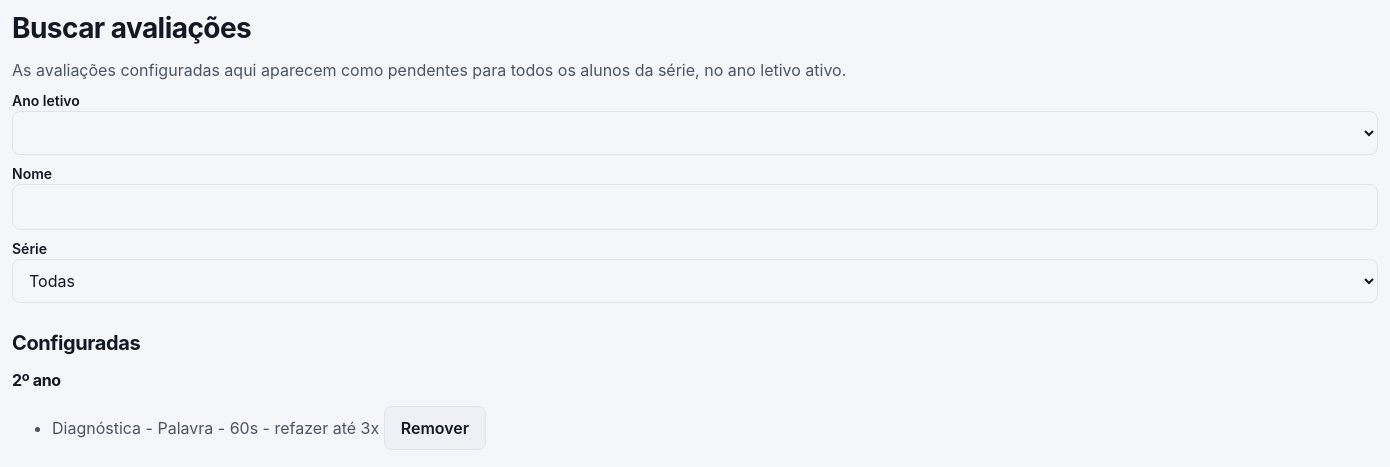
Scenario: ProgramarAvaliacoesPage › lists the configured evaluations grouped by série and removes one
This screenshot has width=1390, height=467.
Expected: the heading "2º ano" is shown, [12, 370, 61, 390]
Click the button named "Remover Diagnóstica do 2º ano" at x=435, y=428, box [384, 406, 486, 450]
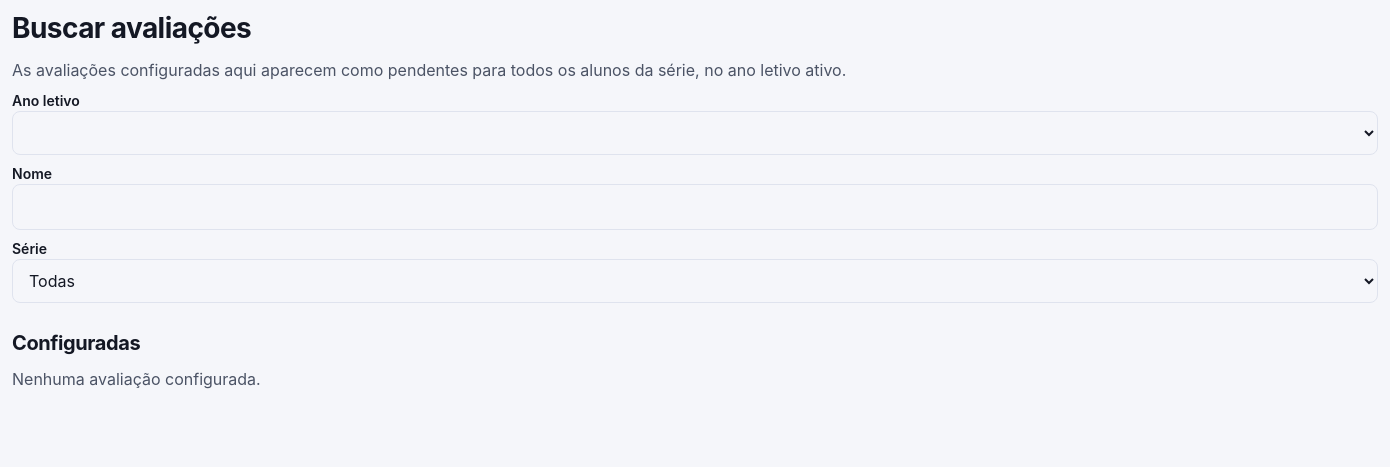
Expected: the text "Nenhuma avaliação configurada." is shown, [12, 369, 261, 389]
